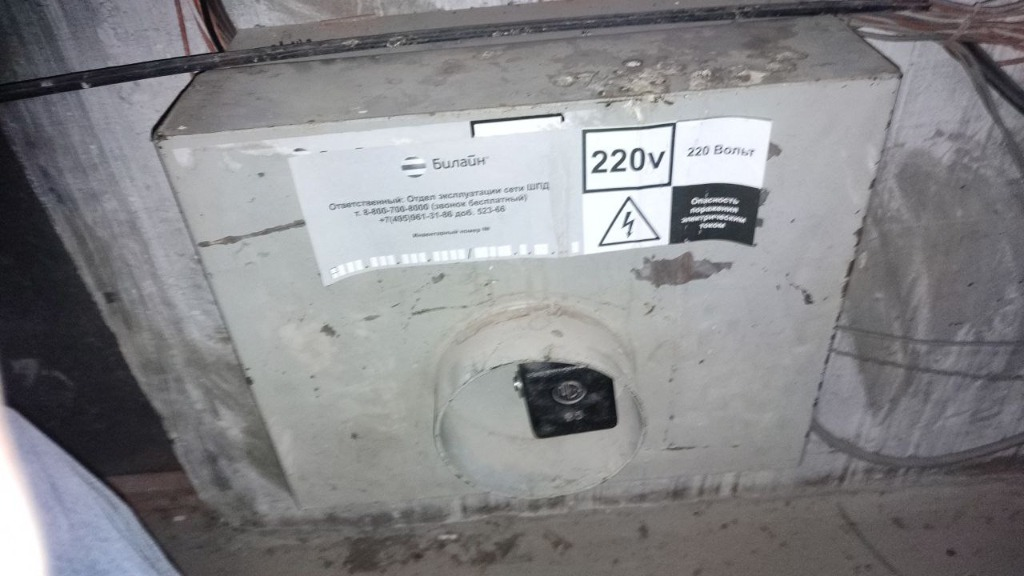shta-3: (149, 2, 905, 510)
